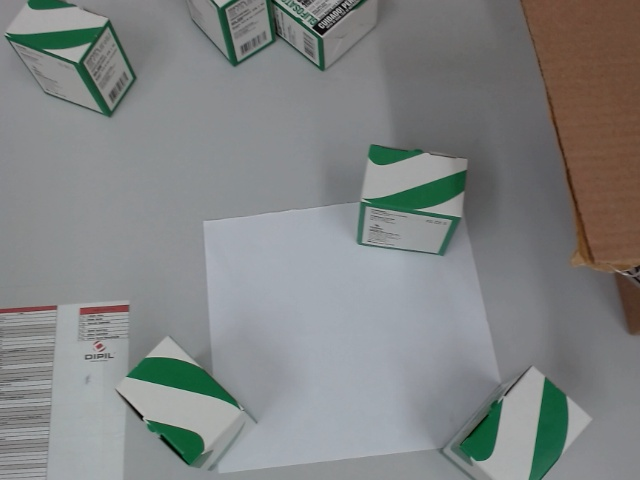caixa_principal: (517, 4, 640, 337)
